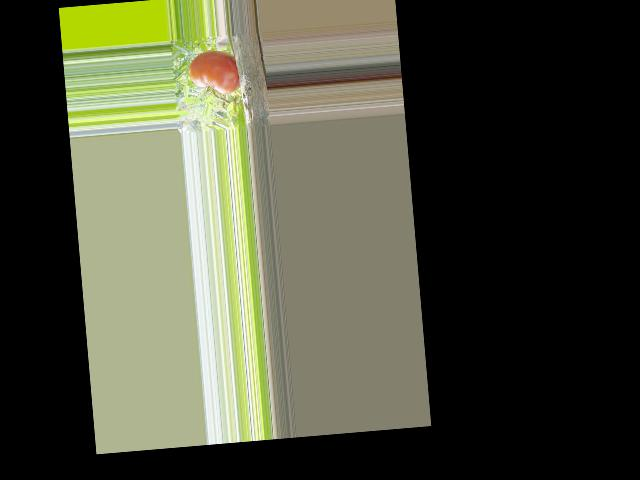tomato: (187, 49, 241, 97)
